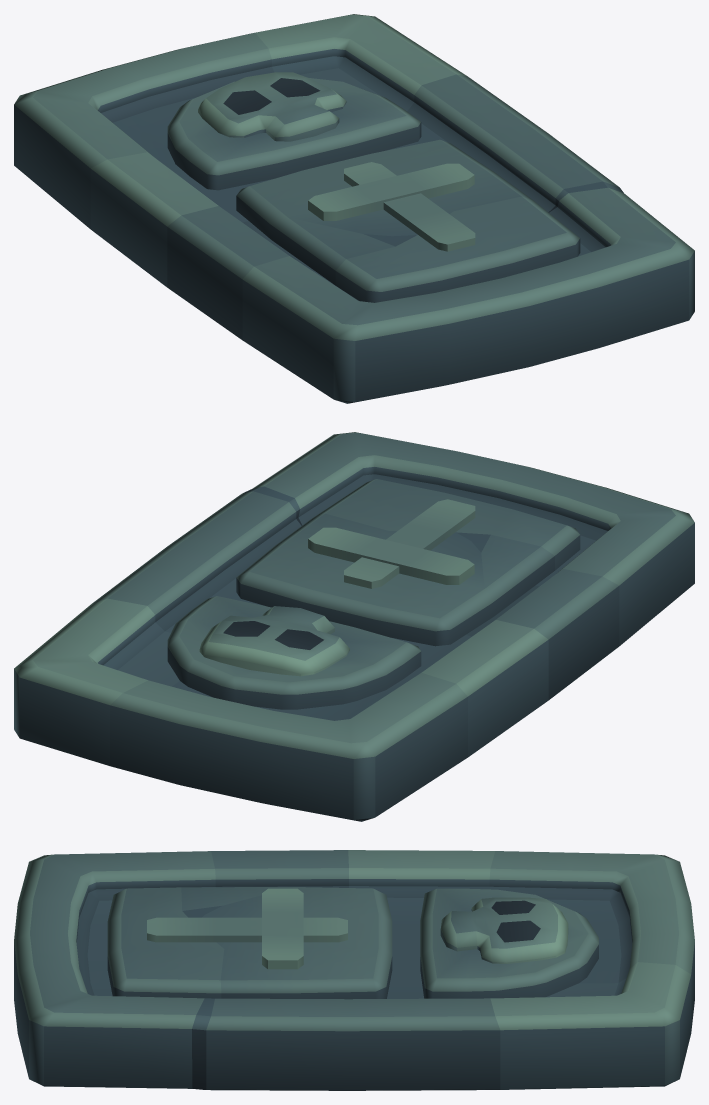
File: grave_stone_4_LOD_setup.fbx
The picture shows the model from 3 angles, top to bottom: view 1: azimuth 30°, elevation 25°; view 2: azimuth 150°, elevation 25°; view 3: azimuth 270°, elevation 25°; orthographic projection. The views are drawn at different scales.
Visible parts, largest first — view 1: grave_stone_4_LOD0; view 2: grave_stone_4_LOD0; view 3: grave_stone_4_LOD0.
Part boxes in pixels (box(x1,y1,x2,y2)): grave_stone_4_LOD0: box(14, 14, 694, 403); grave_stone_4_LOD0: box(14, 432, 694, 821); grave_stone_4_LOD0: box(14, 850, 694, 1090).
Size of what is drawn, in the model's own units: 106 by 24.62 by 168.
